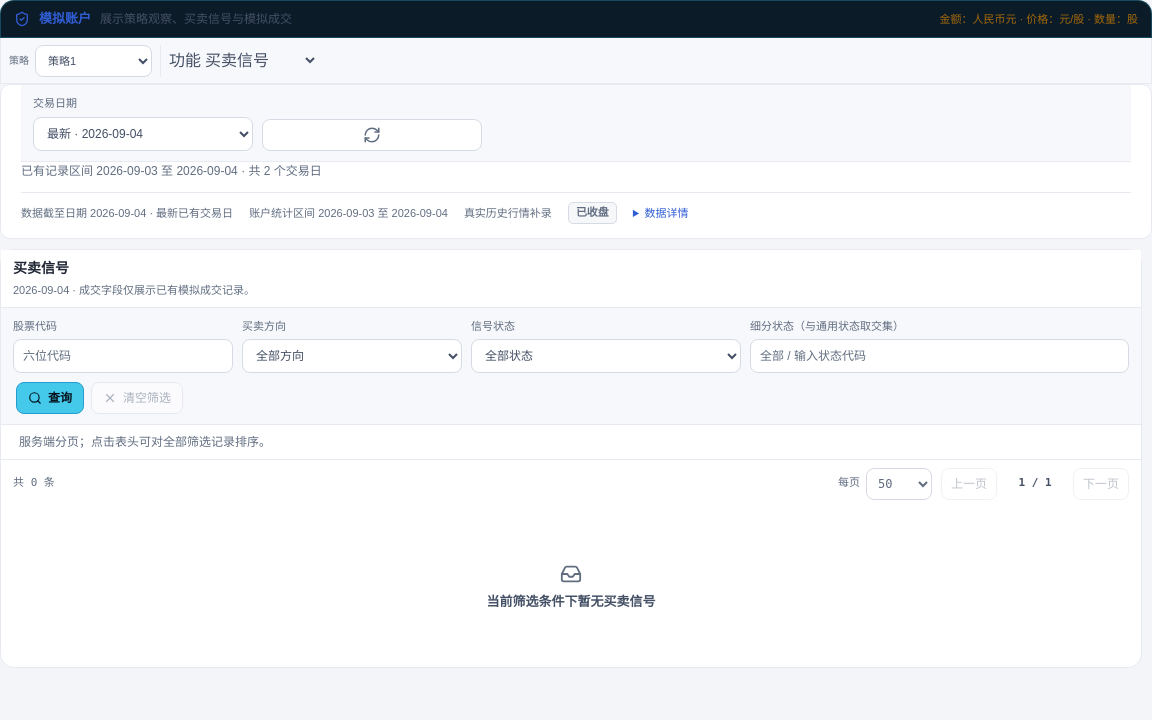
uses a compact mobile module picker and immediately applies dates across modules
The image size is (1152, 720).
expect the dropdown named "切换量化功能" shows "买卖信号": met, box [201,50,318,70]
Select "2026-09-03" in the dropdown named "量化交易日期" at (143, 134), box [33,116,253,150]
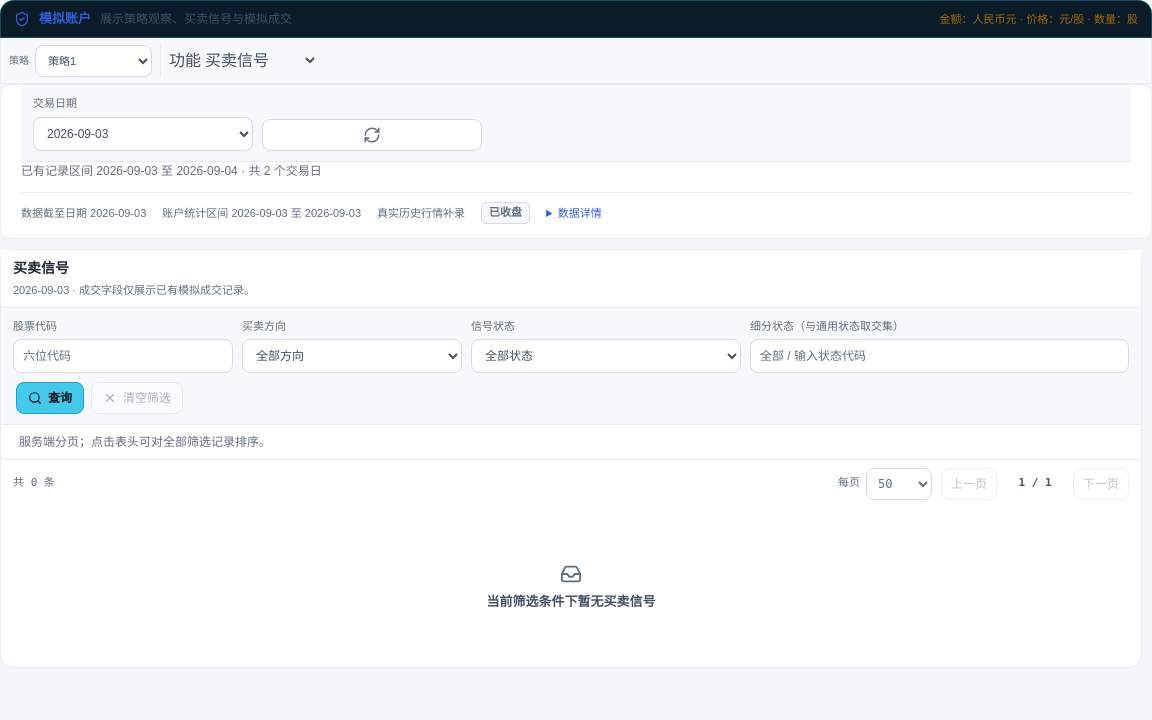
Select "持仓" in the dropdown named "切换量化功能" at (260, 60), box [201,50,318,70]
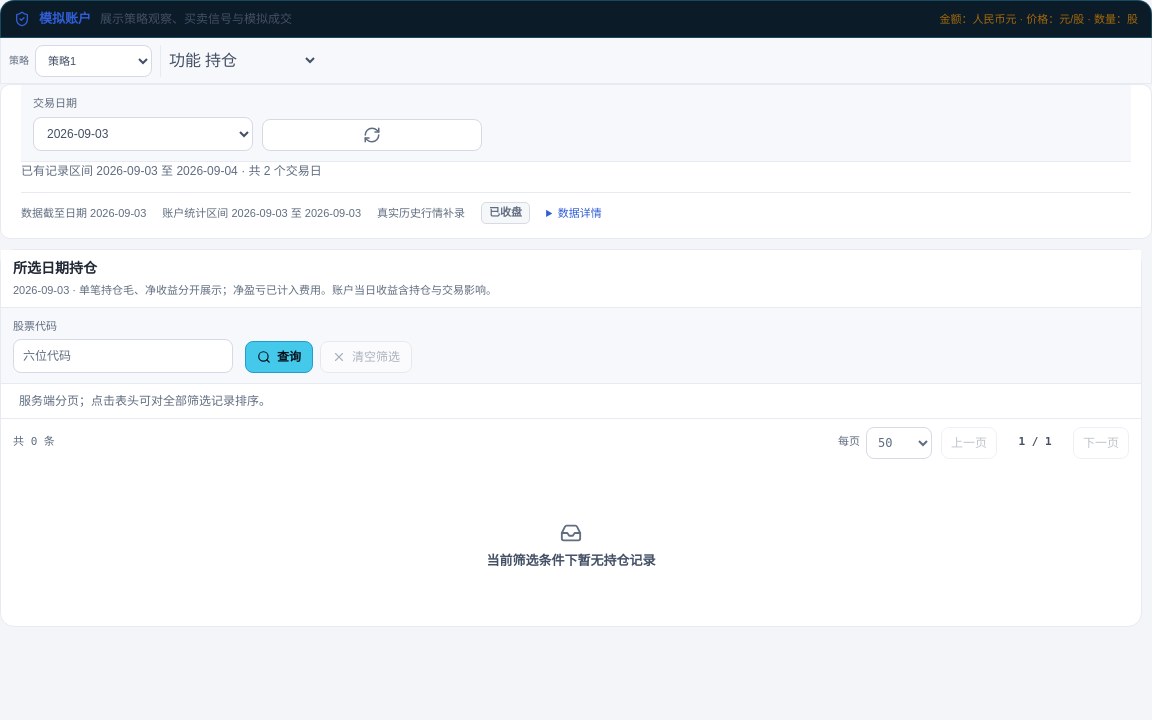
Select "最新 · 2026-09-04" in the dropdown named "量化交易日期" at (143, 134), box [33,116,253,150]
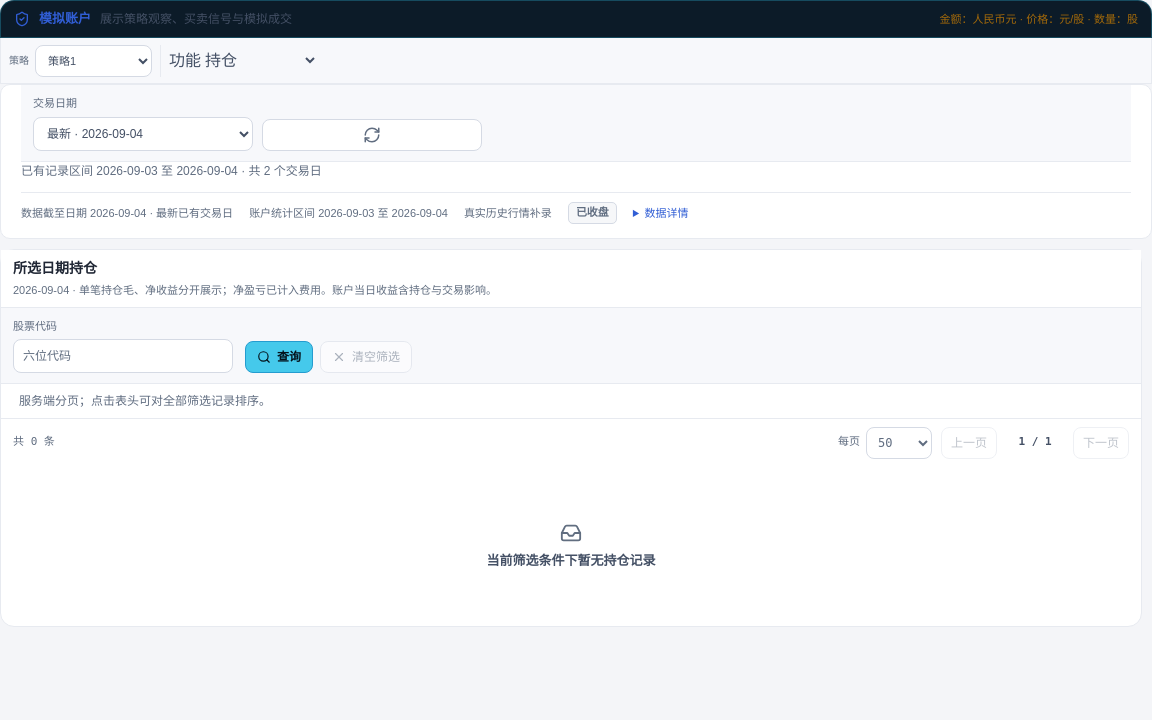
expect the element that starts with "数据截至日期" shows "数据截至日期 2026-09-04": met, box [21,192,1131,238]
